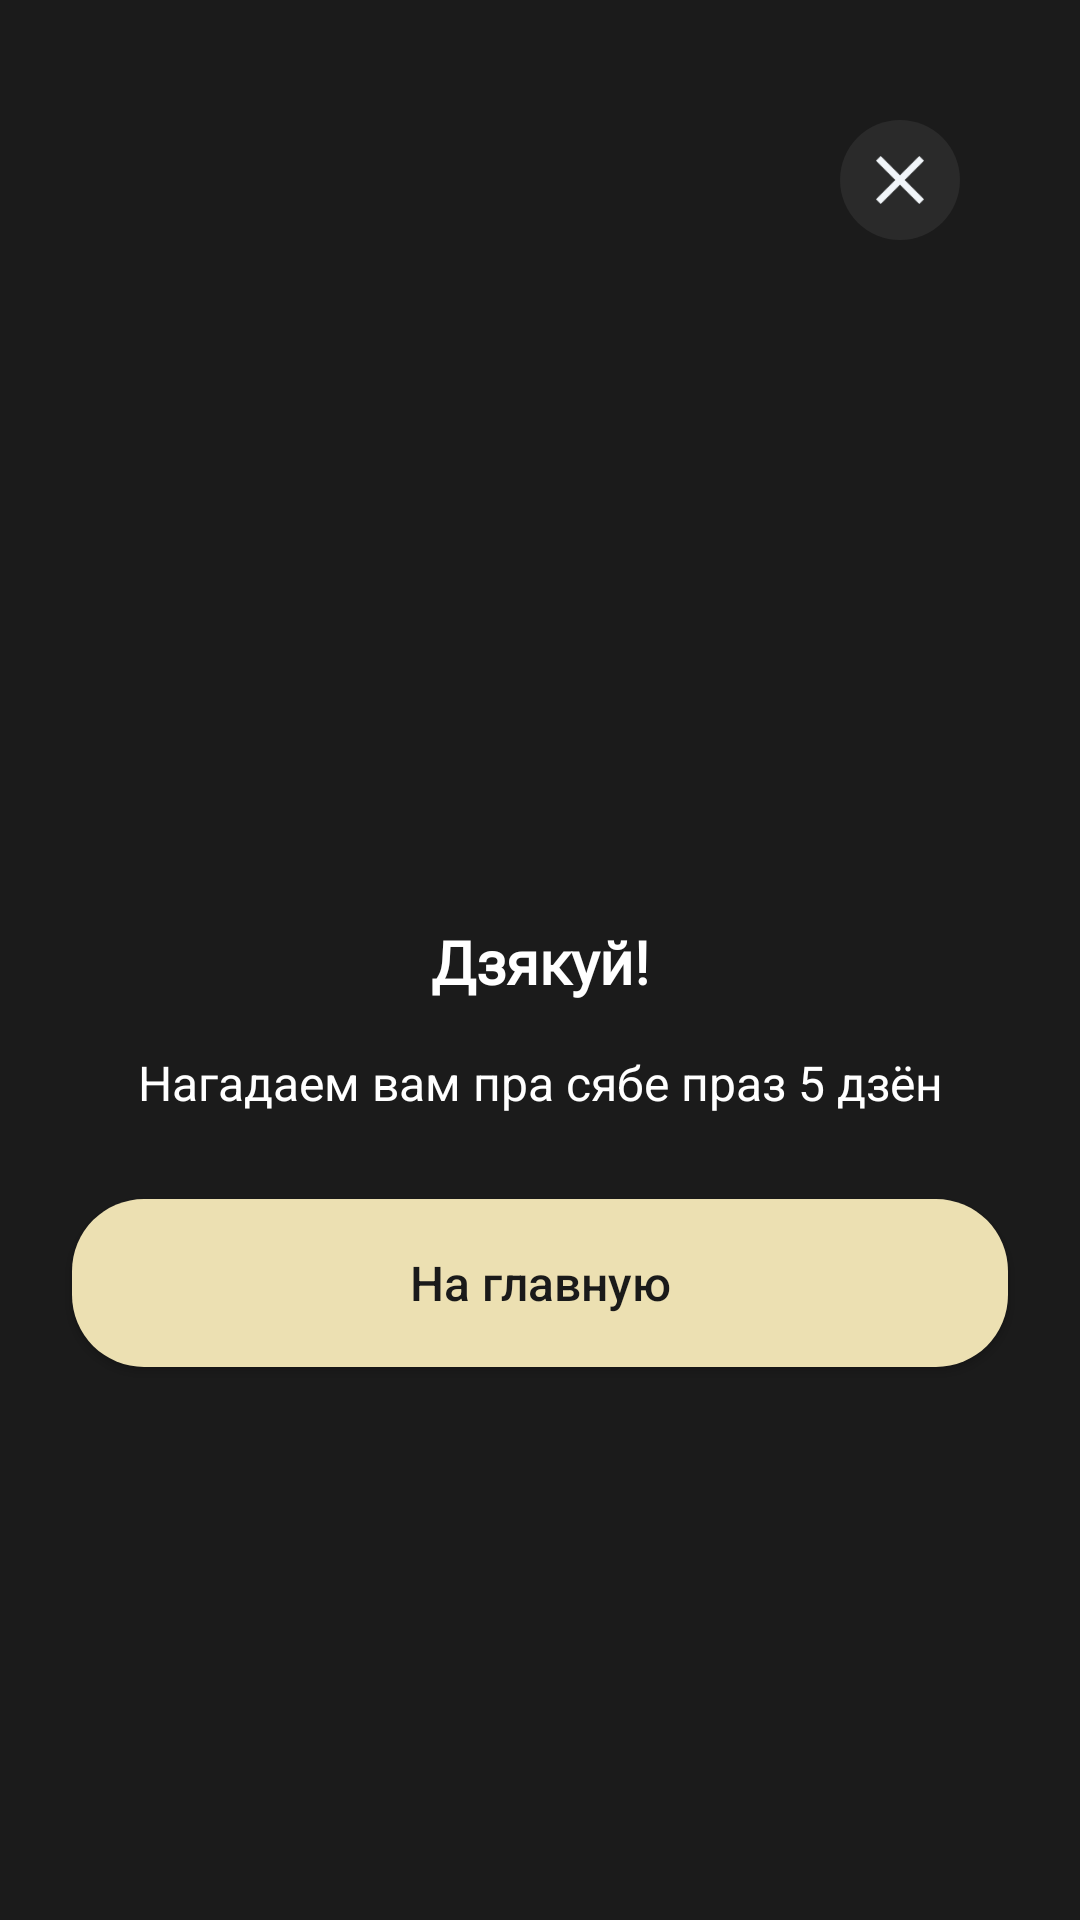

Where icons sit on this 1080×1920 app screen, as {"x1": x1, "y1": y1, "x2": x2, "y2": y2}:
close: {"x1": 840, "y1": 120, "x2": 960, "y2": 240}
